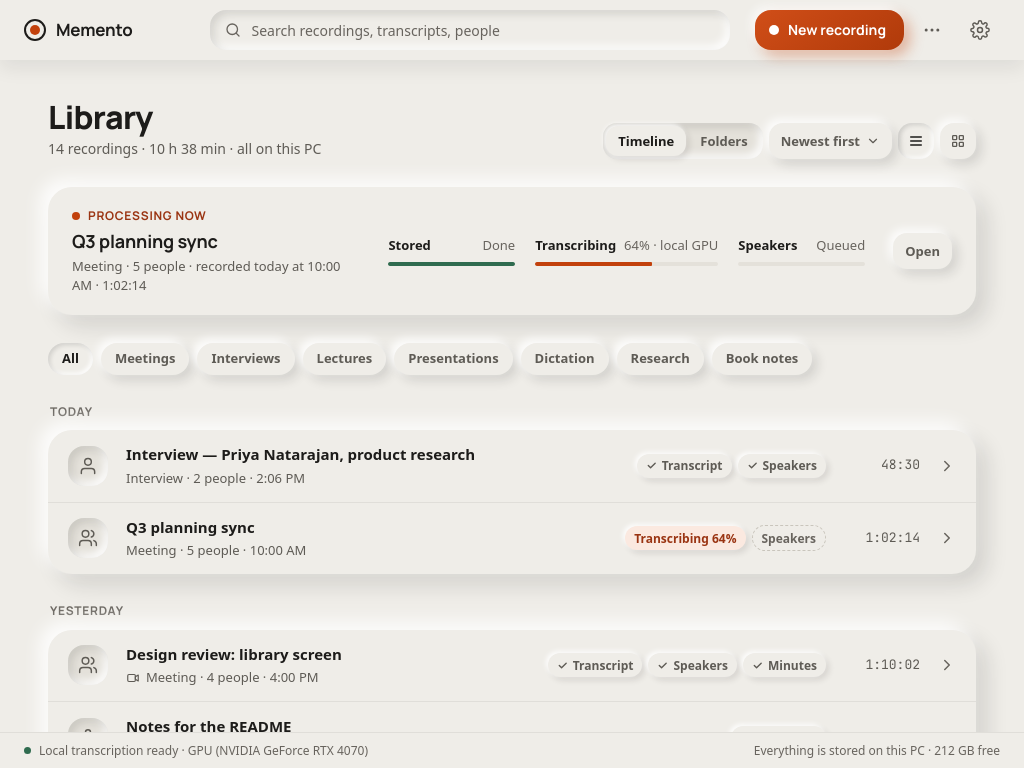
Test: Library, populated (against the browser-preview host) › sorts from the sort menu
Click the button with class "sort-btn": point(830, 142) left=769, top=124, right=892, bottom=160
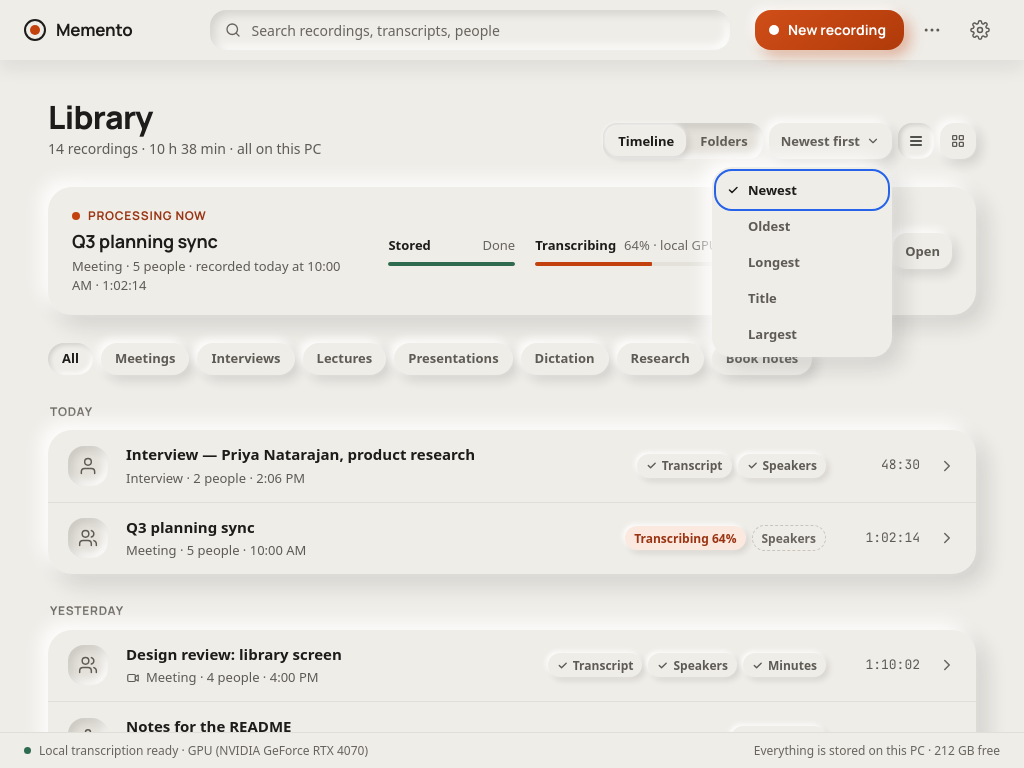
Click the option "Longest": point(774, 262) left=748, top=253, right=800, bottom=271
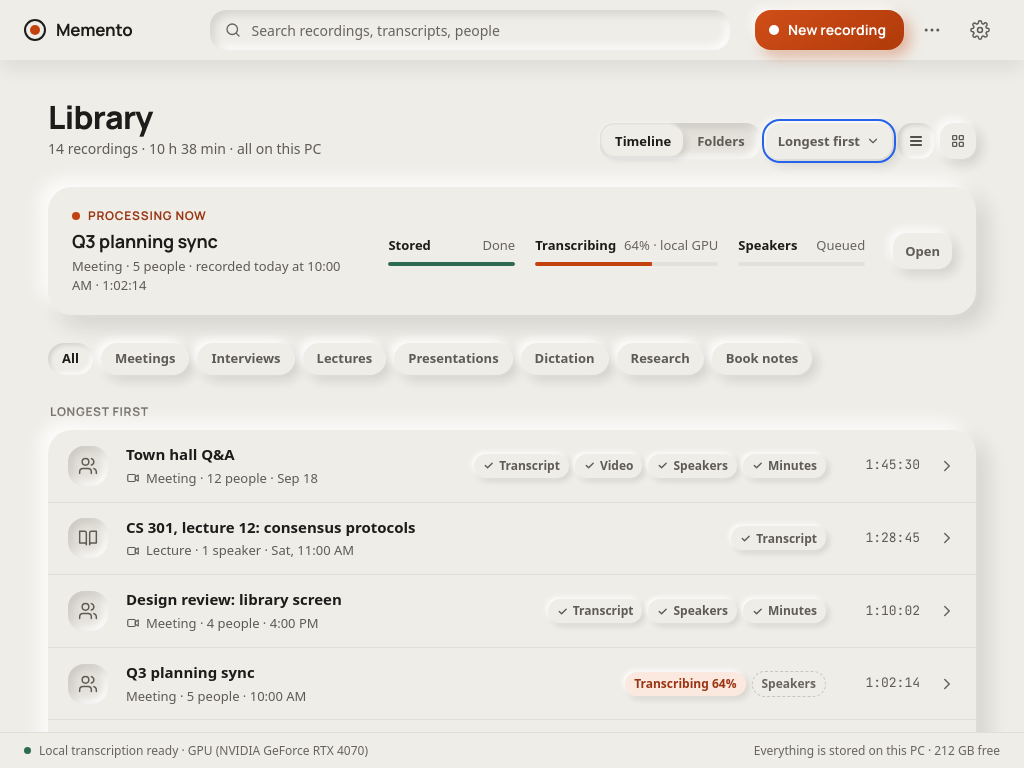
Expected: the button with class "sort-btn" reads "Longest first", left=766, top=124, right=892, bottom=160
Expected: the text with class "row-title" reads "Town hall Q&A", left=126, top=444, right=235, bottom=464
